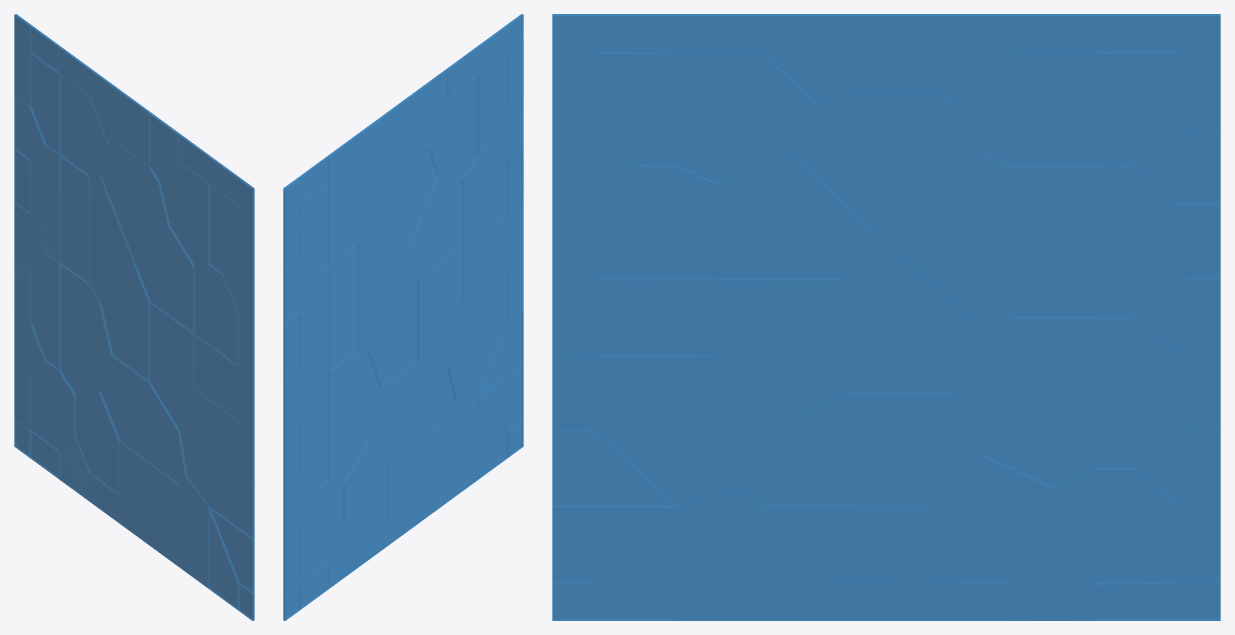
The model's file is breakWindow.fbx.
3 renders of one model, left to right at view 1: azimuth 30°, elevation 25°; view 2: azimuth 150°, elevation 25°; view 3: azimuth 270°, elevation 25°, orthographic. The views are drawn at different scales.
Parts seen in each view (by area): view 1: Cube_cell.088, Cube_cell.037, Cube_cell.033, Cube_cell.068, Cube_cell.010, Cube_cell.030, Cube_cell.032, Cube_cell.017, Cube_cell.040, Cube_cell.012, Cube_cell.027, Cube_cell.093 (+3 smaller); view 2: Cube_cell.037, Cube_cell.088, Cube_cell.033, Cube_cell.068, Cube_cell.010, Cube_cell.030, Cube_cell.032, Cube_cell.017, Cube_cell.012, Cube_cell.040, Cube_cell.027, Cube_cell.093 (+3 smaller); view 3: Cube_cell.088, Cube_cell.037, Cube_cell.009.
Boxes of the visible parts, bbox=[...] form: Cube_cell.088: bbox=[14, 14, 254, 620]; Cube_cell.037: bbox=[14, 14, 254, 620]; Cube_cell.033: bbox=[89, 176, 132, 300]; Cube_cell.068: bbox=[163, 478, 207, 587]; Cube_cell.010: bbox=[119, 443, 176, 527]; Cube_cell.030: bbox=[193, 335, 236, 419]; Cube_cell.032: bbox=[29, 145, 58, 261]; Cube_cell.017: bbox=[15, 205, 43, 267]; Cube_cell.040: bbox=[238, 368, 252, 430]; Cube_cell.012: bbox=[89, 475, 118, 521]; Cube_cell.027: bbox=[239, 206, 252, 268]; Cube_cell.093: bbox=[15, 313, 42, 375]; Cube_cell.037: bbox=[283, 14, 523, 620]; Cube_cell.088: bbox=[283, 14, 523, 620]; Cube_cell.033: bbox=[360, 227, 403, 351]; Cube_cell.068: bbox=[435, 399, 478, 484]; Cube_cell.010: bbox=[390, 421, 448, 516]; Cube_cell.030: bbox=[464, 216, 508, 299]; Cube_cell.032: bbox=[301, 265, 329, 381]; Cube_cell.017: bbox=[285, 368, 313, 430]; Cube_cell.012: bbox=[360, 519, 388, 565]; Cube_cell.040: bbox=[509, 205, 522, 266]; Cube_cell.027: bbox=[509, 42, 522, 104]; Cube_cell.093: bbox=[286, 476, 314, 538]; Cube_cell.088: bbox=[552, 14, 1220, 620]; Cube_cell.037: bbox=[552, 14, 1220, 620]; Cube_cell.009: bbox=[1179, 53, 1220, 127].
Size of the model in its own units: 0.8032 by 144 by 144.
